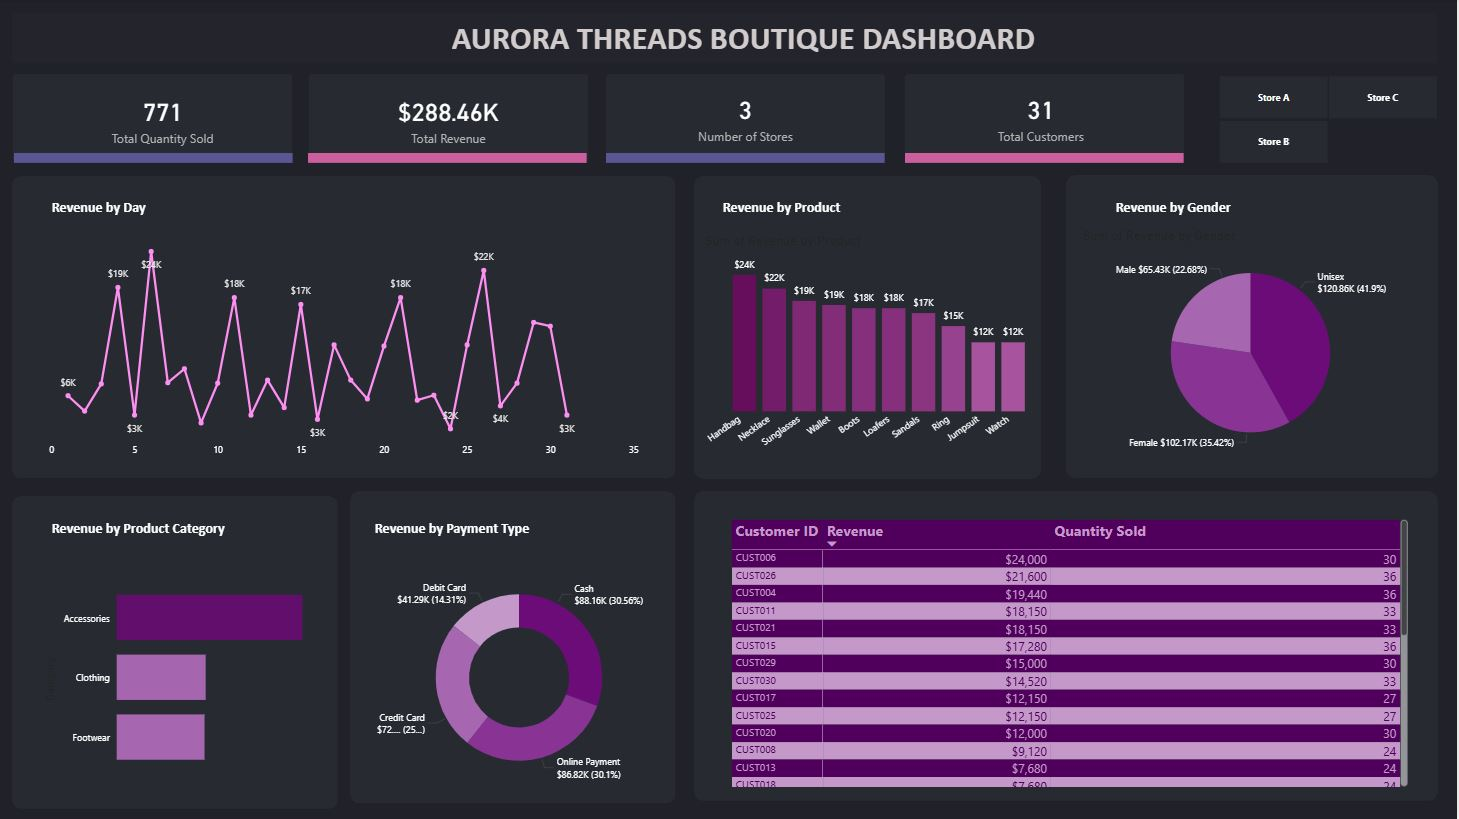

The dashboard page shown, as its layout file describes it:
{"tool":"powerbi","page":{"name":"Dashboard","canvas":[1920,1080],"ordinal":0},"visuals":[{"type":"shape","box":[19,99.2,367.7,116.7],"z":0},{"type":"shape","box":[17.5,233.4,873.9,398.3],"z":1000},{"type":"shape","box":[17.1,18.4,1878.1,65.9],"z":1500},{"type":"shape","box":[915.4,233.1,457,399.1],"z":2000},{"type":"shape","box":[17.1,654.6,429.4,412.2],"z":3000},{"type":"shape","box":[462.5,648.2,428.9,411.4],"z":4000},{"type":"shape","box":[915.4,648,979.9,408.3],"z":5000},{"type":"shape","box":[408.5,99.2,367.7,116.7],"z":6000},{"type":"shape","box":[799.5,99.2,367.7,116.7],"z":7000},{"type":"shape","box":[1193.4,99.2,367.7,116.7],"z":8000},{"type":"clusteredBarChart","fields":{"Y":["Sum(AuroraData.Revenue)"],"Category":["AuroraData.Category"]},"box":[54,740.2,354.3,301.6],"z":9000},{"type":"lineChart","fields":{"Category":["AuroraData.Date.Variation.Date Hierarchy.Day"],"Y":["Sum(AuroraData.Revenue)"]},"box":[54,307.8,796.6,303.5],"z":10000},{"type":"clusteredColumnChart","fields":{"Category":["AuroraData.Product"],"Y":["Sum(AuroraData.Revenue)"]},"box":[924.6,308.2,447.8,302.9],"z":11000},{"type":"pivotTable","fields":{"Rows":["AuroraData.Customer ID"],"Values":["Sum(AuroraData.Revenue)","Sum(AuroraData.Quantity)"]},"box":[960.1,680.9,899.6,360.9],"z":12000},{"type":"shape","box":[1405.3,231.8,490,399.1],"z":13000},{"type":"donutChart","fields":{"Category":["AuroraData.Payment Type"],"Y":["Sum(AuroraData.Revenue)"]},"box":[490,731,389.9,325.3],"z":14000},{"type":"pieChart","fields":{"Category":["AuroraData.Gender"],"Y":["Sum(AuroraData.Revenue)"]},"box":[1422.4,301.6,451.8,309.5],"z":15000},{"type":"card","fields":{"Values":["Sum(AuroraData.Quantity)"]},"box":[70.7,111.1,288.9,91.9],"z":16000},{"type":"card","fields":{"Values":["Sum(AuroraData.Revenue)"]},"box":[442.1,110.9,299.1,91.9],"z":17000},{"type":"card","fields":{"Values":["Count(AuroraData.Store)"]},"box":[888.5,108,188.2,91.9],"z":18000},{"type":"card","fields":{"Values":["Count(AuroraData.Customer ID)"]},"box":[1279.5,108,186.7,91.9],"z":19000},{"type":"textbox","box":[64.2,258.2,322.4,49.6],"z":20000},{"type":"textbox","box":[948.3,258.1,321.4,50],"z":21000},{"type":"textbox","box":[1465.9,258.1,322.7,50],"z":22000},{"type":"textbox","box":[64.2,681.3,322.4,49.6],"z":23000},{"type":"textbox","box":[490,680.9,322.7,50],"z":24000},{"type":"slicer","fields":{"Values":["AuroraData.Store"]},"box":[1581.8,94.8,335.9,127.8],"z":25000},{"type":"textbox","box":[591.4,19.8,829.8,67.2],"z":26000},{"type":"shape","box":[19.8,202.8,367.5,13.2],"z":27000},{"type":"shape","box":[407,202.8,367.5,13.2],"z":28000},{"type":"shape","box":[799.5,202.8,367.5,13.2],"z":29000},{"type":"shape","box":[1193.3,202.8,367.5,13.2],"z":30000}]}

Visuals, with their boxes in screenshot pixels (x1, y1, x2, y2), scaled from the page's 1920x1080 canvas onto the 1459x819 screenshot:
shape: [x1=14, y1=75, x2=294, y2=164]
shape: [x1=13, y1=177, x2=677, y2=479]
shape: [x1=13, y1=14, x2=1440, y2=64]
shape: [x1=696, y1=177, x2=1043, y2=479]
shape: [x1=13, y1=496, x2=339, y2=809]
shape: [x1=351, y1=492, x2=677, y2=804]
shape: [x1=696, y1=491, x2=1440, y2=801]
shape: [x1=310, y1=75, x2=590, y2=164]
shape: [x1=608, y1=75, x2=887, y2=164]
shape: [x1=907, y1=75, x2=1186, y2=164]
clusteredBarChart - Sum(AuroraData.Revenue) x AuroraData.Category: [x1=41, y1=561, x2=310, y2=790]
lineChart - AuroraData.Date.Variation.Date Hierarchy.Day x Sum(AuroraData.Revenue): [x1=41, y1=233, x2=646, y2=464]
clusteredColumnChart - AuroraData.Product x Sum(AuroraData.Revenue): [x1=703, y1=234, x2=1043, y2=463]
pivotTable - AuroraData.Customer ID x Sum(AuroraData.Revenue): [x1=730, y1=516, x2=1413, y2=790]
shape: [x1=1068, y1=176, x2=1440, y2=478]
donutChart - AuroraData.Payment Type x Sum(AuroraData.Revenue): [x1=372, y1=554, x2=669, y2=801]
pieChart - AuroraData.Gender x Sum(AuroraData.Revenue): [x1=1081, y1=229, x2=1424, y2=463]
card - Sum(AuroraData.Quantity): [x1=54, y1=84, x2=273, y2=154]
card - Sum(AuroraData.Revenue): [x1=336, y1=84, x2=563, y2=154]
card - Count(AuroraData.Store): [x1=675, y1=82, x2=818, y2=152]
card - Count(AuroraData.Customer ID): [x1=972, y1=82, x2=1114, y2=152]
textbox: [x1=49, y1=196, x2=294, y2=233]
textbox: [x1=721, y1=196, x2=965, y2=234]
textbox: [x1=1114, y1=196, x2=1359, y2=234]
textbox: [x1=49, y1=517, x2=294, y2=554]
textbox: [x1=372, y1=516, x2=618, y2=554]
slicer - AuroraData.Store: [x1=1202, y1=72, x2=1457, y2=169]
textbox: [x1=449, y1=15, x2=1080, y2=66]
shape: [x1=15, y1=154, x2=294, y2=164]
shape: [x1=309, y1=154, x2=589, y2=164]
shape: [x1=608, y1=154, x2=887, y2=164]
shape: [x1=907, y1=154, x2=1186, y2=164]
